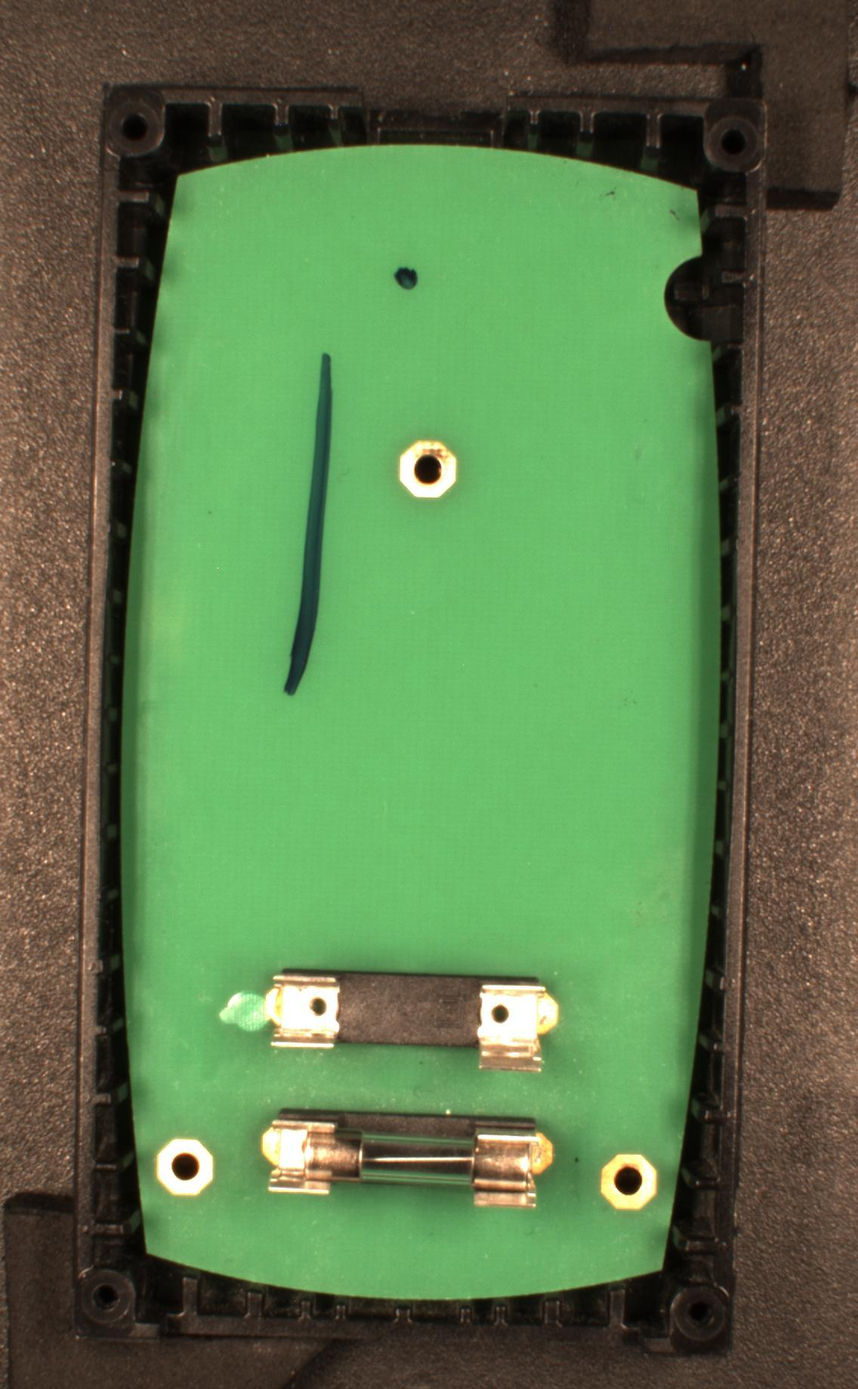Linijsko Ostecene: (280, 352, 334, 699)
Nepostojanje osiguraca: (262, 966, 560, 1075)
Tockasto Ostecenje: (392, 265, 421, 292)
